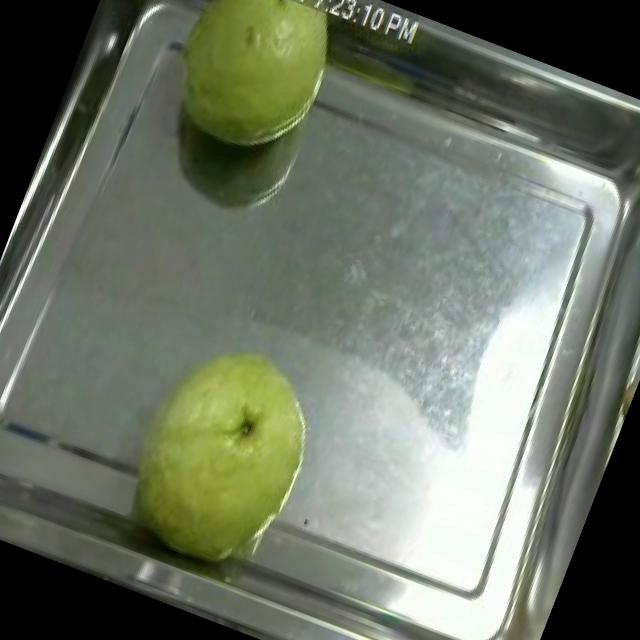Fruit: (94, 313, 348, 594), (143, 0, 363, 180)
